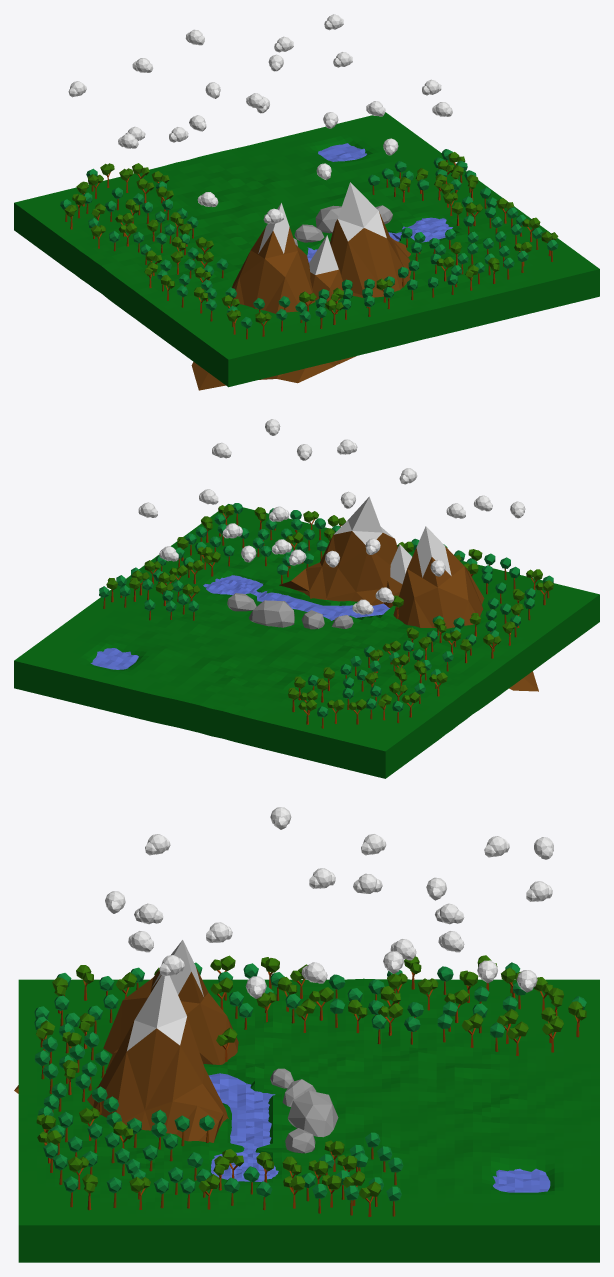
File: mvp grouped (1).fbx
3 views of the same model, one above another, from view 1: azimuth 30°, elevation 25°; view 2: azimuth 150°, elevation 25°; view 3: azimuth 270°, elevation 25° (orthographic). The views are drawn at different scales.
Parts seen in each view (by area): view 1: Plane.005, Plane, Icosphere.066, Cube.002, Icosphere; view 2: Plane.005, Plane, Icosphere.066, Icosphere, Cube.002, Plane.004; view 3: Plane.005, Plane, Icosphere.066, Icosphere, Cube.002, Plane.004, Icosphere.001.
Boxes of the visible parts, left/top/right/bottom form: Plane.005: left=14, top=112, right=599, bottom=390; Plane: left=330, top=182, right=411, bottom=297; Icosphere.066: left=368, top=149, right=478, bottom=202; Cube.002: left=391, top=217, right=452, bottom=242; Icosphere: left=315, top=205, right=341, bottom=233; Plane.005: left=14, top=503, right=599, bottom=778; Plane: left=279, top=496, right=397, bottom=605; Icosphere.066: left=99, top=560, right=200, bottom=620; Icosphere: left=249, top=600, right=294, bottom=627; Cube.002: left=203, top=575, right=266, bottom=598; Plane.004: left=90, top=648, right=138, bottom=669; Plane.005: left=14, top=940, right=599, bottom=1262; Plane: left=87, top=975, right=228, bottom=1142; Icosphere.066: left=283, top=1132, right=403, bottom=1216; Icosphere: left=288, top=1090, right=338, bottom=1137; Cube.002: left=211, top=1145, right=278, bottom=1181; Plane.004: left=493, top=1169, right=550, bottom=1192; Icosphere.001: left=285, top=1128, right=315, bottom=1153.
Bounding box in the file's own units: 13417 × 7518 × 13526.
